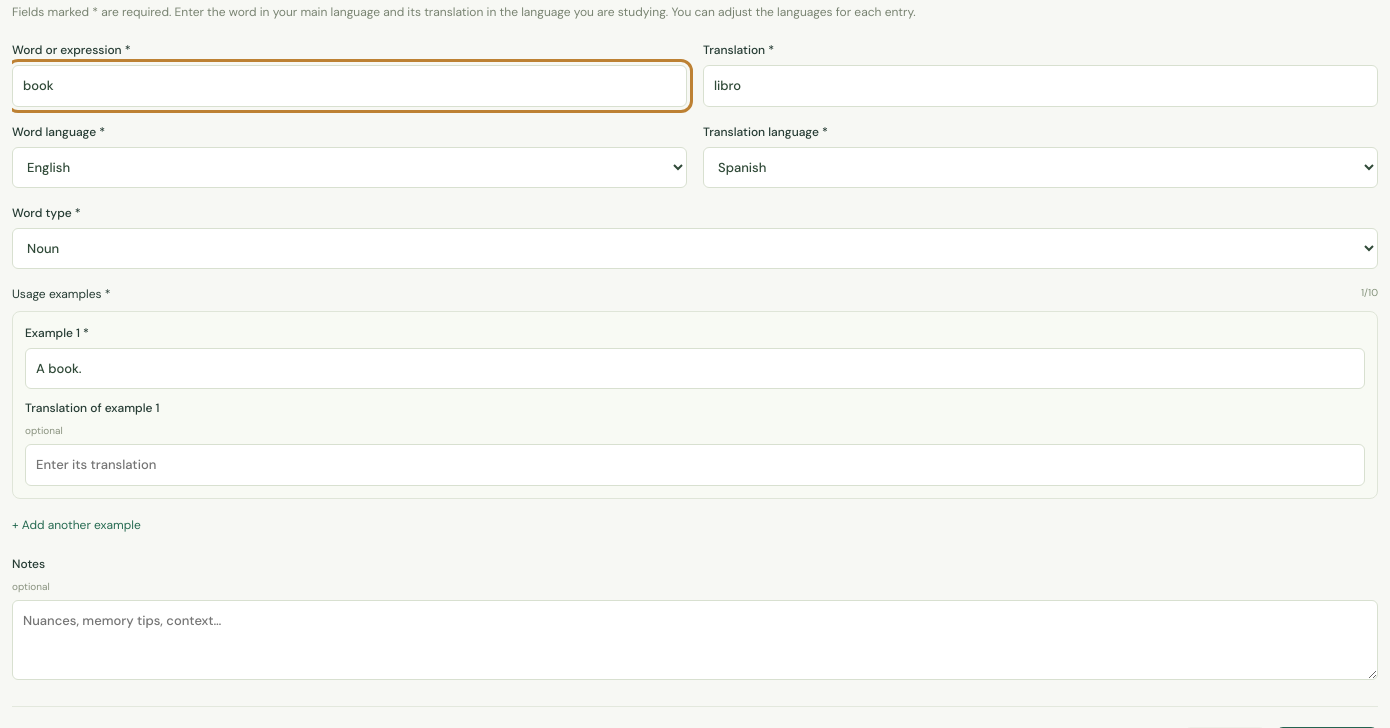
Test case: Formulario de vocabulario › muestra validación y errores de la API en el idioma de la interfaz
This screenshot has width=1390, height=728.
Step 1. Select "English" in the dropdown labelled "Translation language *" → (1040, 167), box [703,146,1378,188]
(page scrolled)
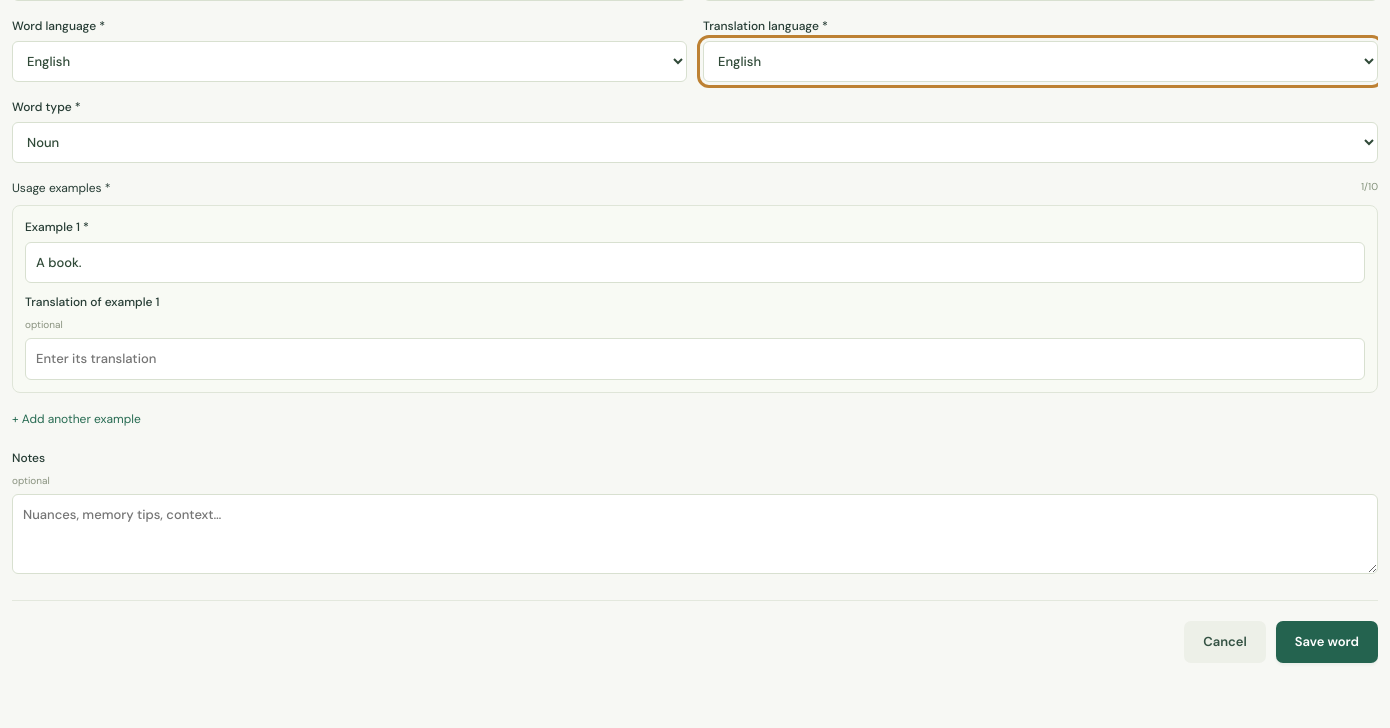
Step 2. Click the button "Save word" → (1327, 642), box [1276,621,1378,662]
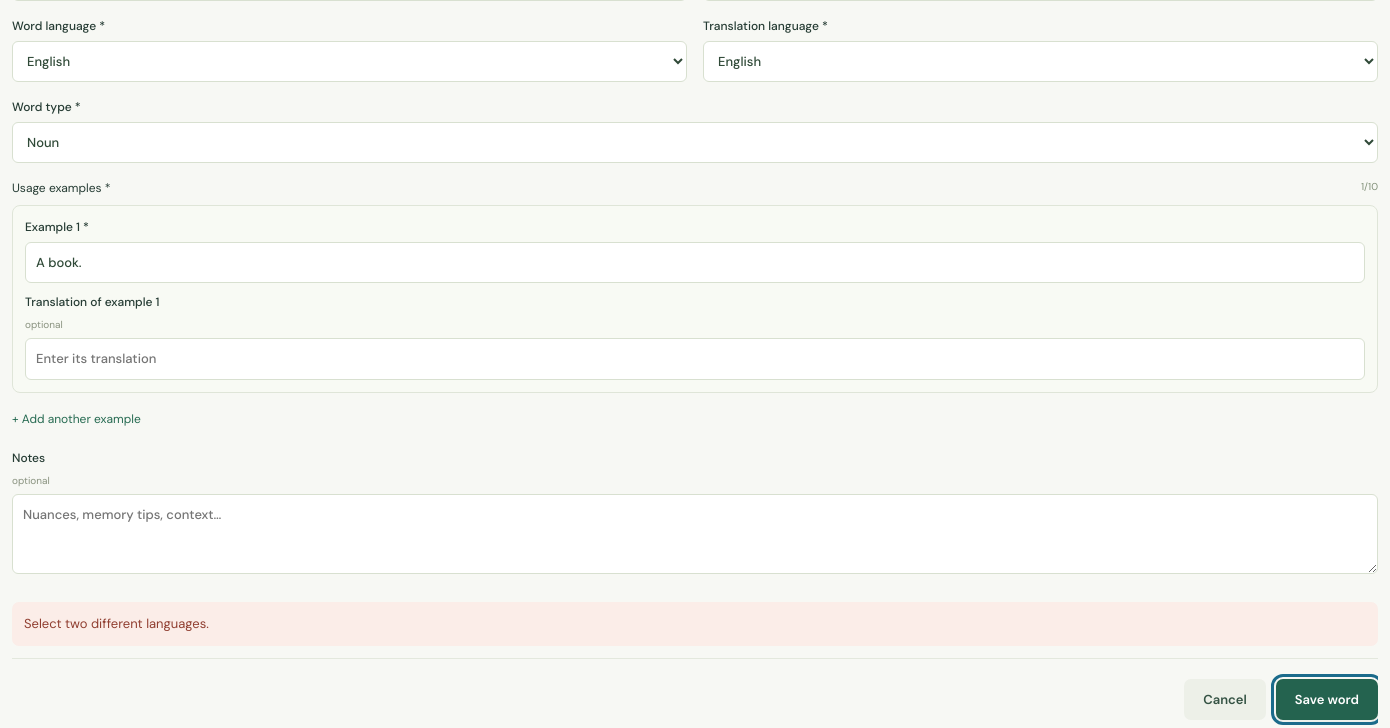
Check: the message reads "Select two different languages.", box [24,615,209,632]
Step 3. Select "Spanish" in the dropdown labelled "Translation language *" → (1040, 61), box [703,40,1378,82]
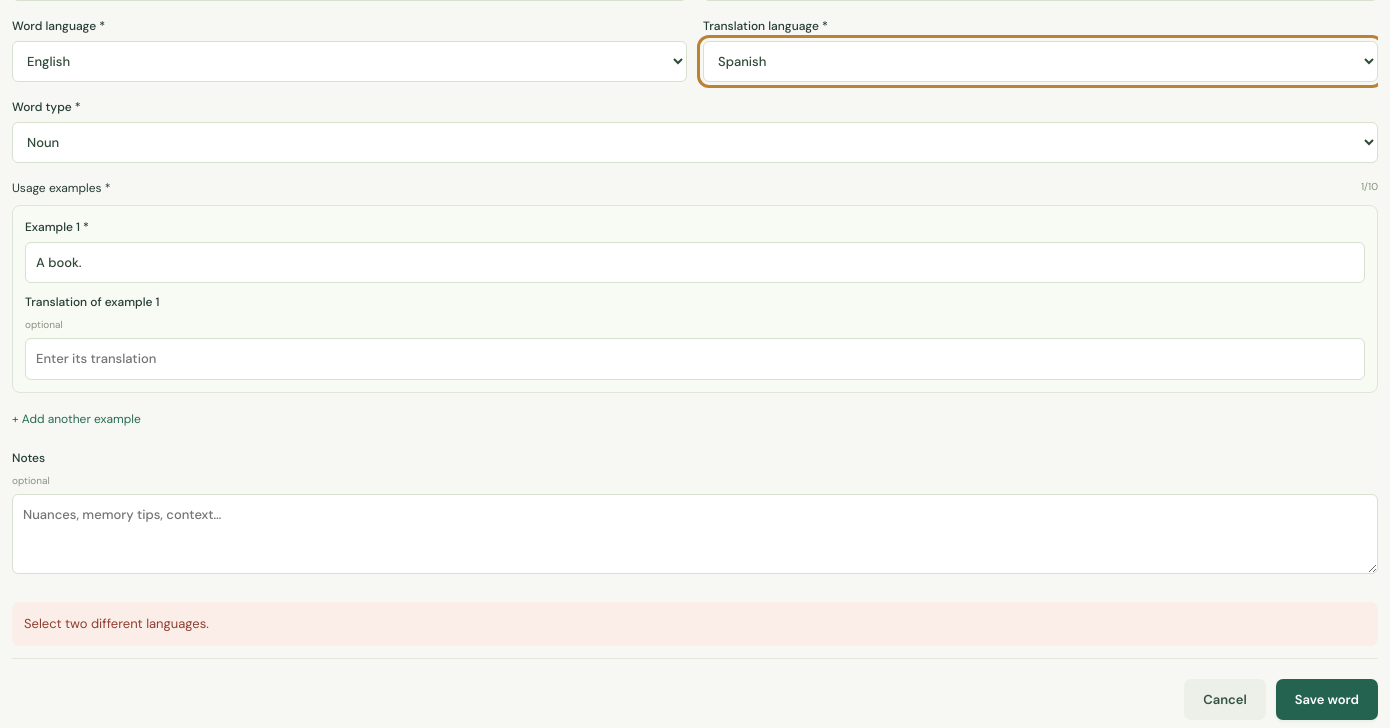
Step 4. Click the button "Save word" → (1327, 699), box [1276,678,1378,720]
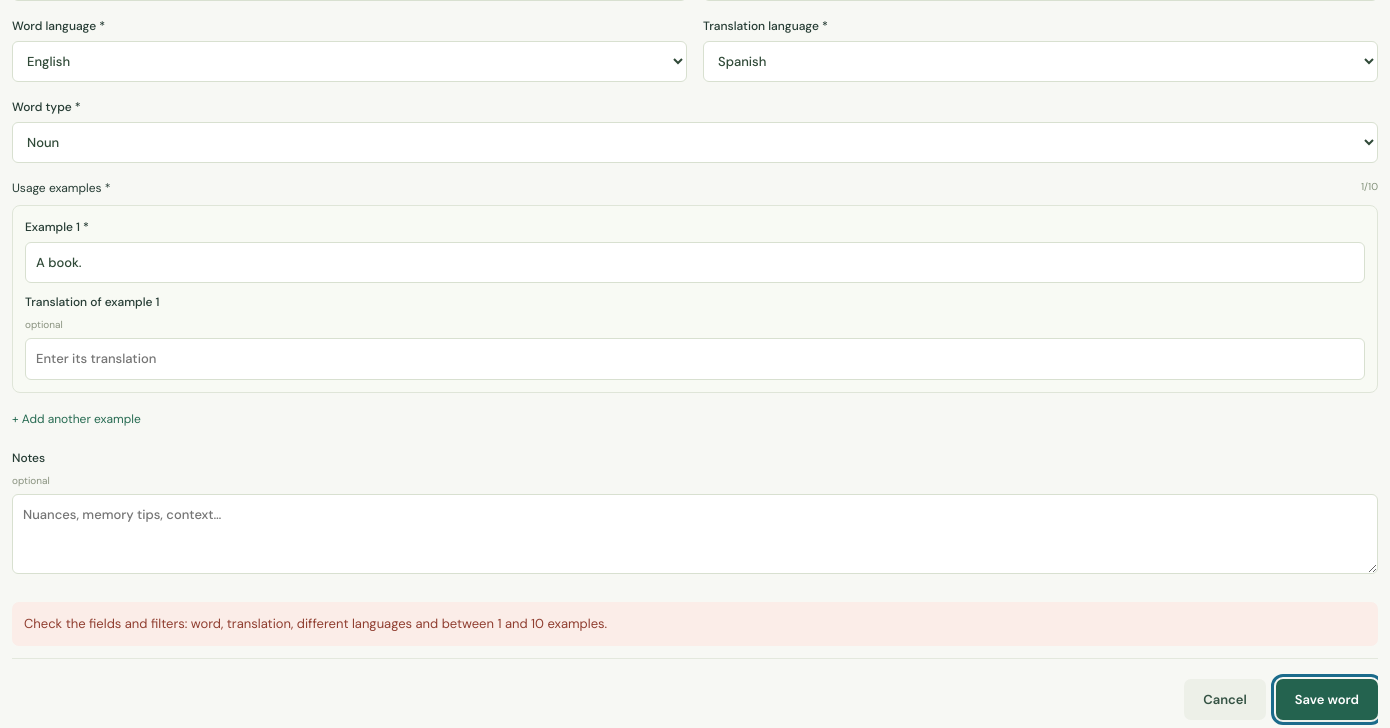
Check: the message shows "Check the fields and filters:", box [24,615,607,632]
